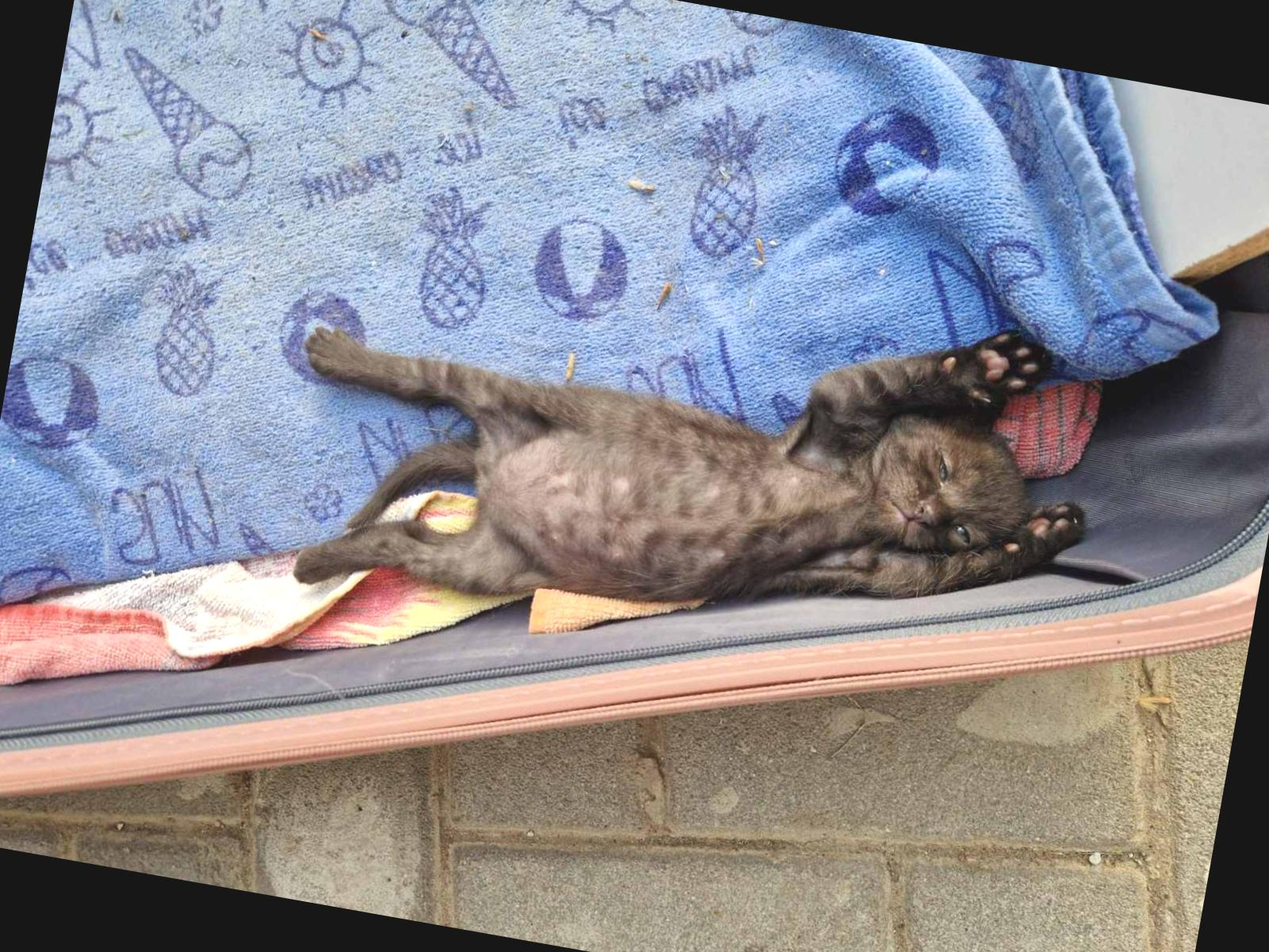macka: (266, 208, 1116, 724)
